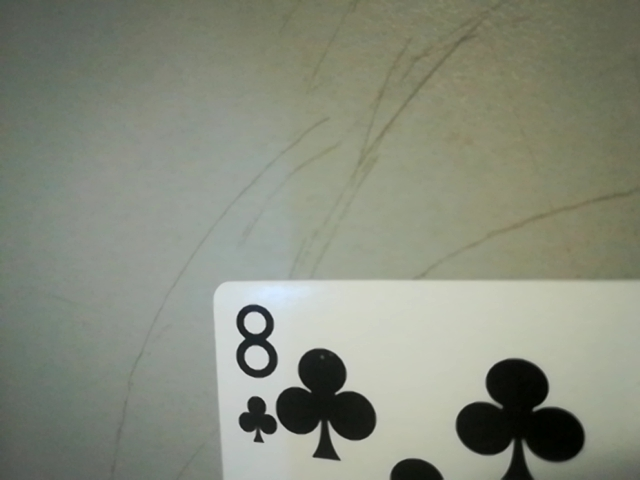mh 8: (219, 289, 287, 453)
